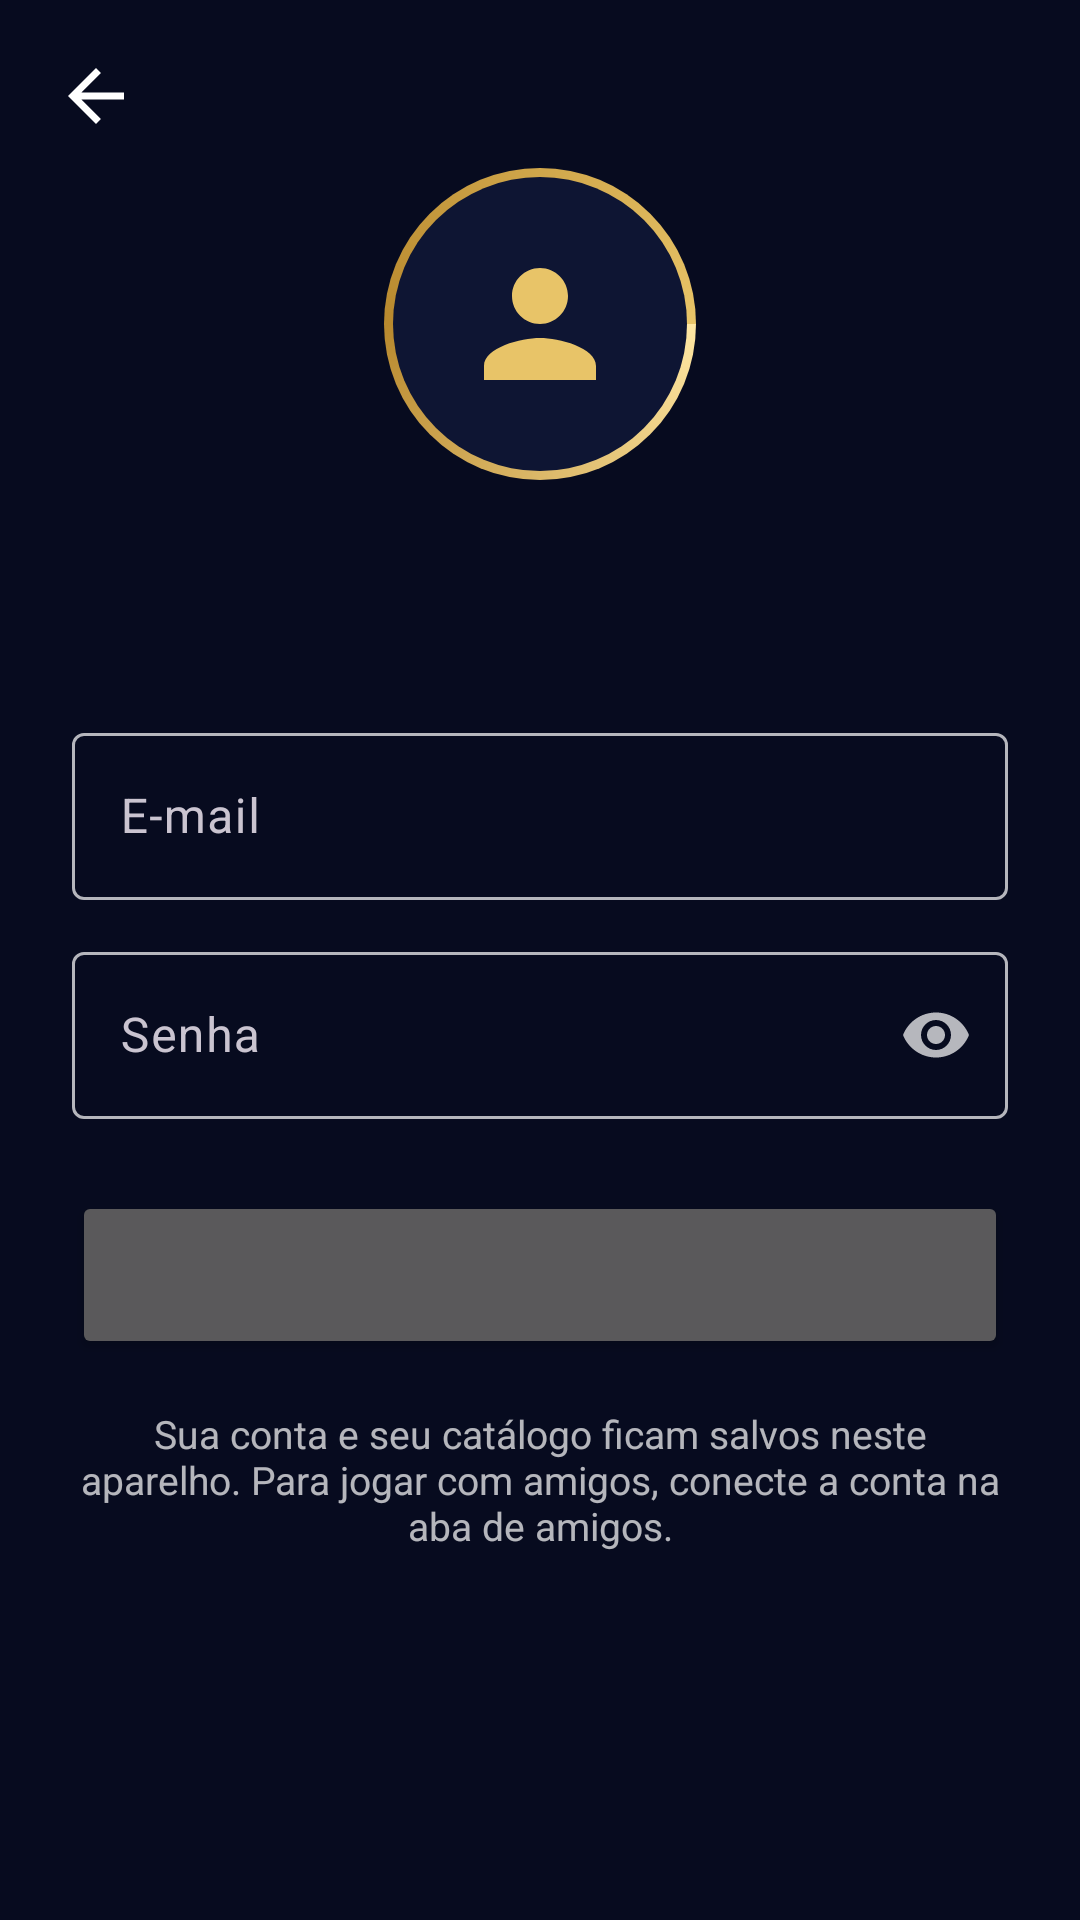

Locate icon controls on the screen. Image size 1080px x 1920px, boxes as BBox(x1, y1, x2, y2).
person: BBox(484, 268, 596, 380)
Voltar: BBox(68, 68, 124, 124)
